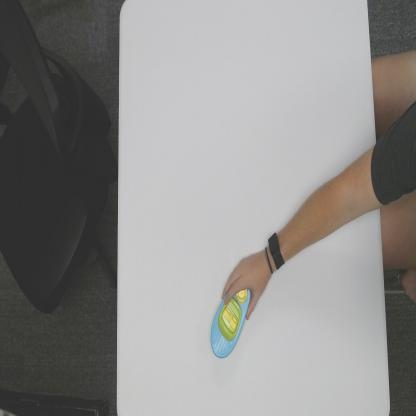Arm: (285, 146, 379, 255)
Boat: (209, 288, 252, 359)
Hand: (221, 249, 269, 321)
